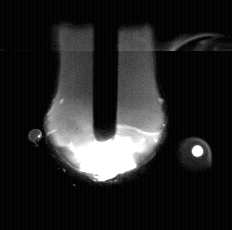arame: (94, 0, 118, 141)
poca: (45, 0, 166, 230)
